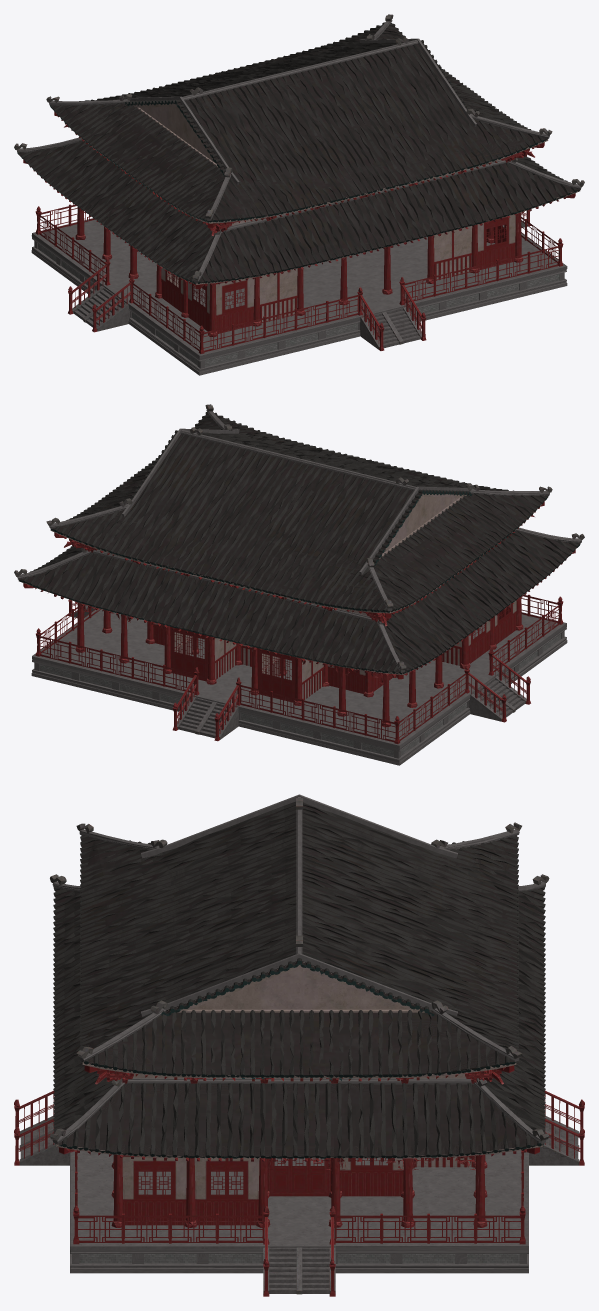
File: quan-am-cac-nhe.glb
3 views of the same model, one above another, from view 1: azimuth 30°, elevation 25°; view 2: azimuth 150°, elevation 25°; view 3: azimuth 270°, elevation 25° (orthographic). The views are drawn at different scales.
Visible parts, largest first — view 1: quan-am-cac; view 2: quan-am-cac; view 3: quan-am-cac.
Boxes of the visible parts, x1,y1,x2,y2 form: quan-am-cac: [14, 14, 584, 375]; quan-am-cac: [14, 404, 584, 765]; quan-am-cac: [14, 794, 584, 1296].
Bounding box in the file's own units: 22.93 × 10.3 × 18.93.
13 materials, 13 textured.
